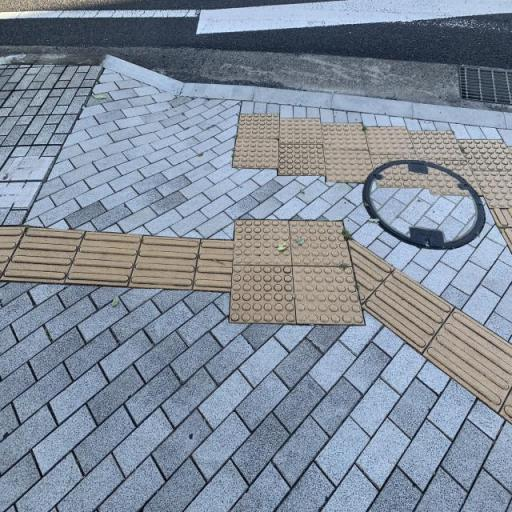dot: (293, 265, 365, 326), (228, 263, 296, 325), (290, 220, 352, 266), (233, 220, 293, 267), (232, 139, 279, 169), (237, 114, 279, 138)
line: (421, 308, 511, 414), (360, 269, 455, 354), (0, 227, 86, 284), (64, 232, 143, 287), (127, 237, 200, 291)
